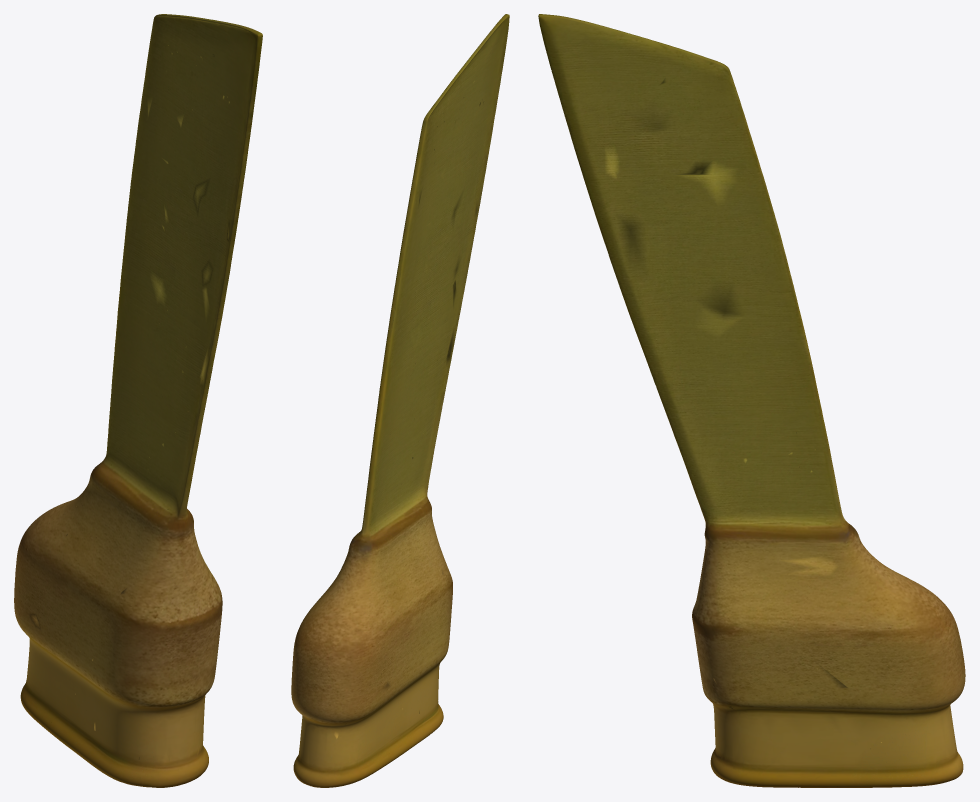
3 renders of one model, left to right at view 1: azimuth 30°, elevation 25°; view 2: azimuth 150°, elevation 25°; view 3: azimuth 270°, elevation 25°, orthographic. The views are drawn at different scales.
Visible parts, largest first — view 1: node_0; view 2: node_0; view 3: node_0.
Boxes of the visible parts, left/top/right/bottom form: node_0: left=14, top=14, right=262, bottom=787; node_0: left=291, top=14, right=509, bottom=787; node_0: left=538, top=14, right=965, bottom=787.
Bounding box in the file's own units: 0.1424 × 1.07 × 0.5512.
1 material, 1 textured.
